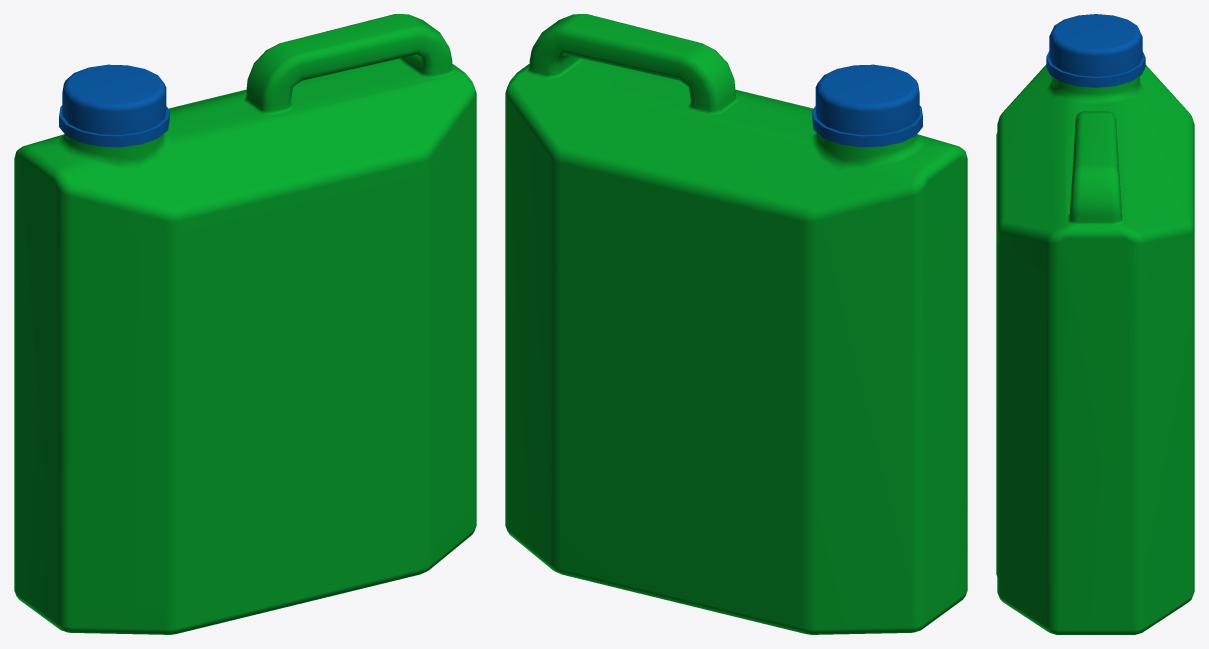
The model's file is SM_canister_big.fbx.
3 renders of one model, left to right at view 1: azimuth 30°, elevation 25°; view 2: azimuth 150°, elevation 25°; view 3: azimuth 270°, elevation 25°, orthographic. The views are drawn at different scales.
Parts seen in each view (by area): view 1: SM_canister_big; view 2: SM_canister_big; view 3: SM_canister_big.
Part boxes in pixels (<box>): SM_canister_big: <box>14,14,476,634</box>; SM_canister_big: <box>505,14,967,634</box>; SM_canister_big: <box>996,14,1194,634</box>.
Size of the model in its own units: 0.6125 by 0.7241 by 0.283.
